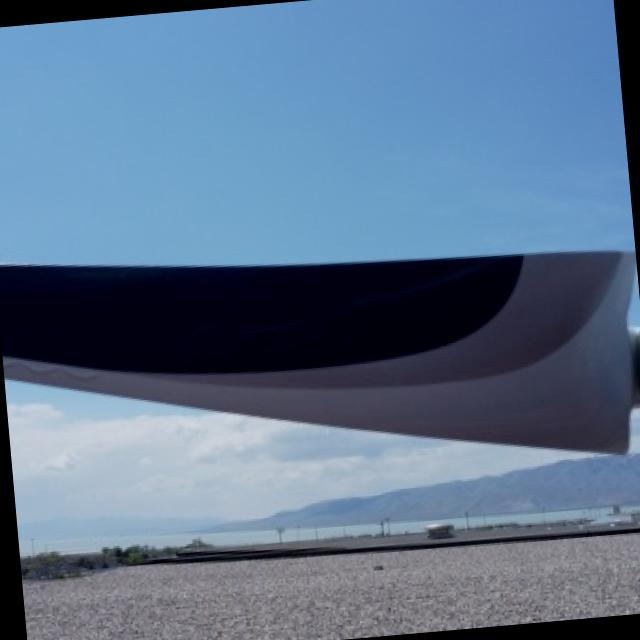healthy: (0, 252, 633, 449)
